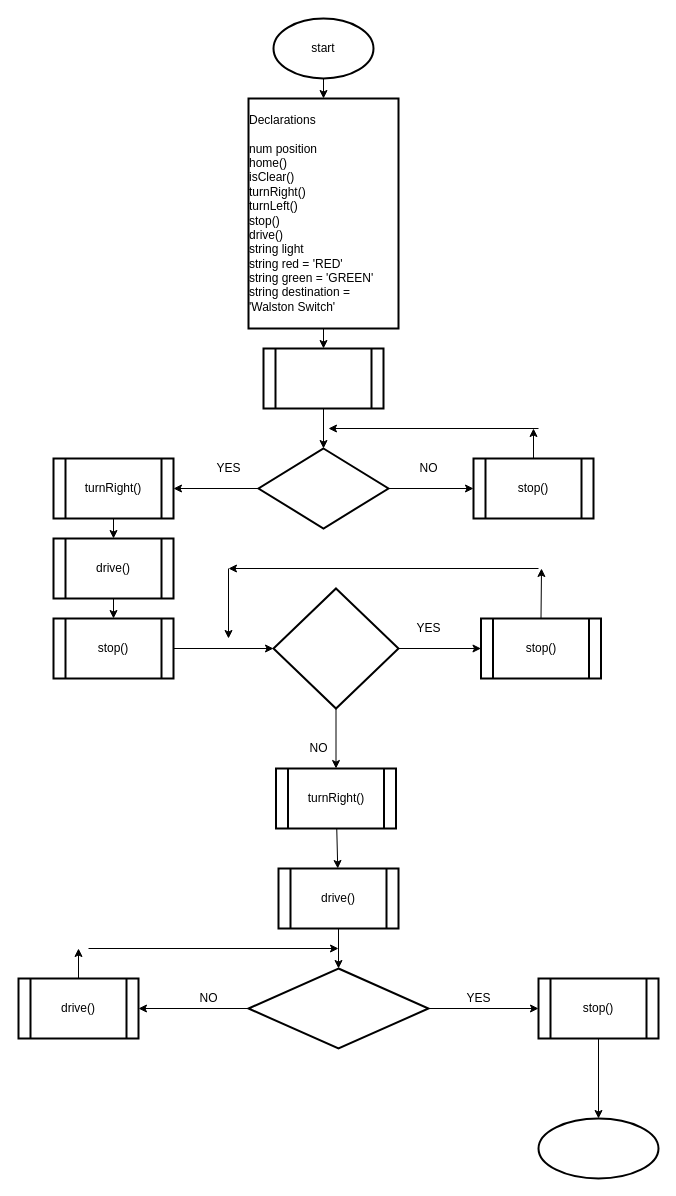
The diagram is 676 pixels wide and 1196 high, and some of its shapes have lost their labels. The centre of each missing label's shape, as x and y in pixels:
"home()" belongs at point 323,378.
"isClear()" belongs at point 323,488.
"light == red" belongs at point 335,648.
"position == destination" belongs at point 338,1008.
"stop" belongs at point 598,1148.
